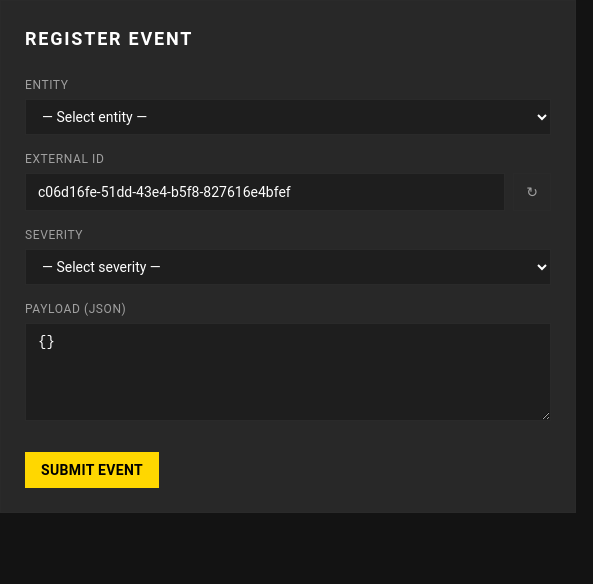
Test case: EventForm › shows duplicate message on idempotent response
The image size is (593, 584).
Select "Death Star" in the dropdown labelled "Entity". click: (288, 117)
box: [25, 99, 551, 135]
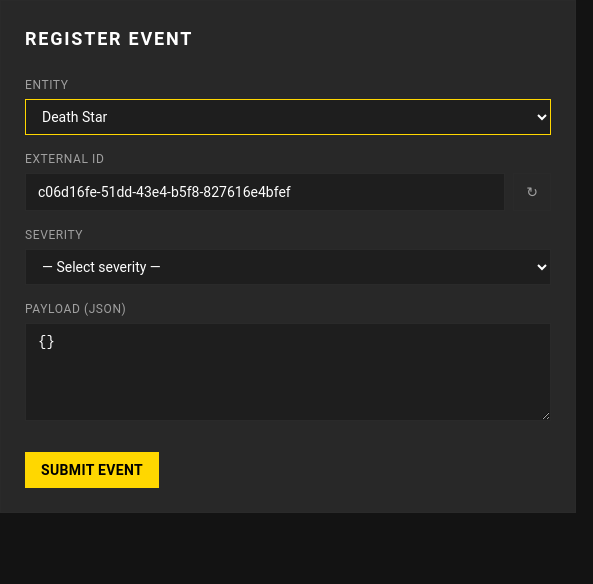
Type "ext-test-1" into the field with placeholder "Unique event identifier". click: (265, 192)
box: [25, 173, 505, 211]
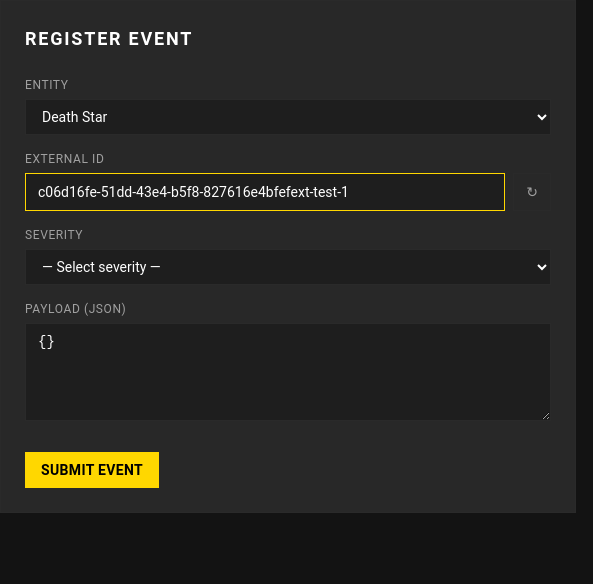
Select "Critical" in the dropdown labelled "Severity". click: (288, 267)
box: [25, 249, 551, 285]
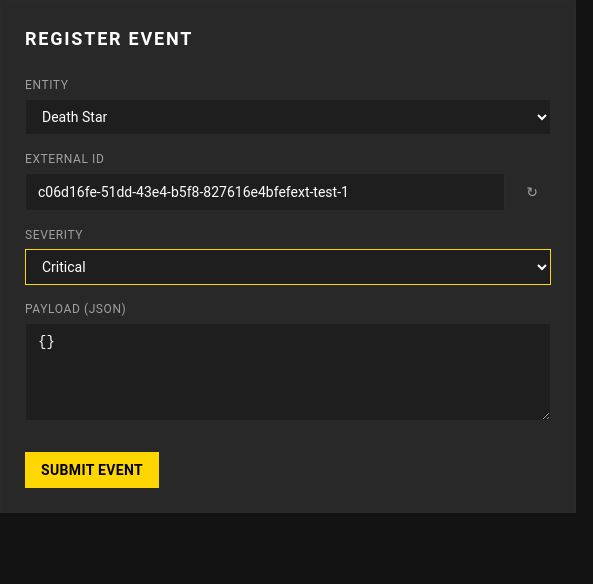
Click the button "Submit Event". click: (92, 470)
box: [25, 452, 159, 488]
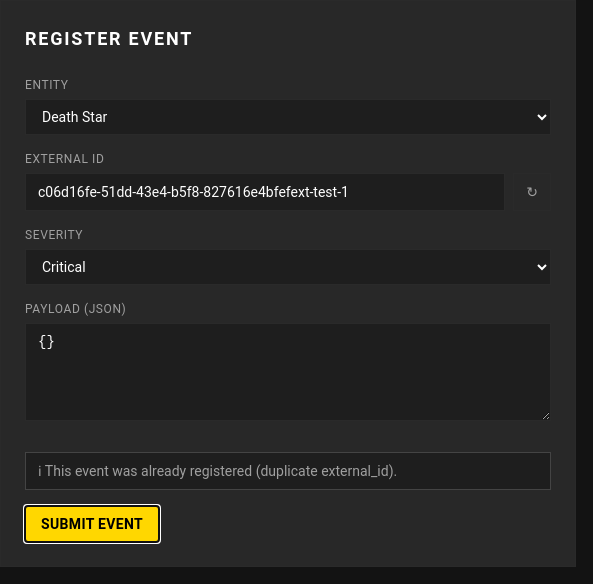
Check: the text "ℹ This event was already registered (duplicate external_id)." is shown, box [25, 452, 551, 490]
